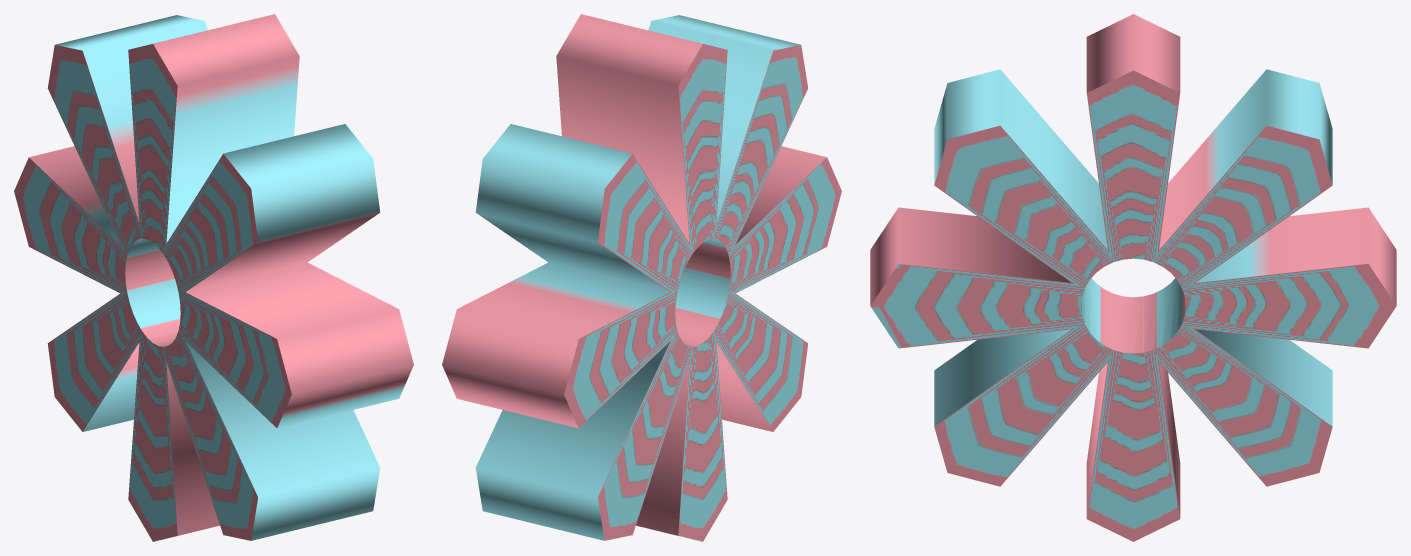
The model's file is UV_gear.fbx.
3 views of the same model, side by side, from view 1: azimuth 30°, elevation 25°; view 2: azimuth 150°, elevation 25°; view 3: azimuth 270°, elevation 25° (orthographic). The views are drawn at different scales.
Visible parts, largest first — view 1: gear1; view 2: gear1; view 3: gear1.
Part boxes in pixels (<box>): gear1: <box>14,14,413,541</box>; gear1: <box>442,14,841,541</box>; gear1: <box>870,14,1396,541</box>.
Bounding box in the file's own units: 2 × 7.8 × 7.89.
1 material, 1 textured.
